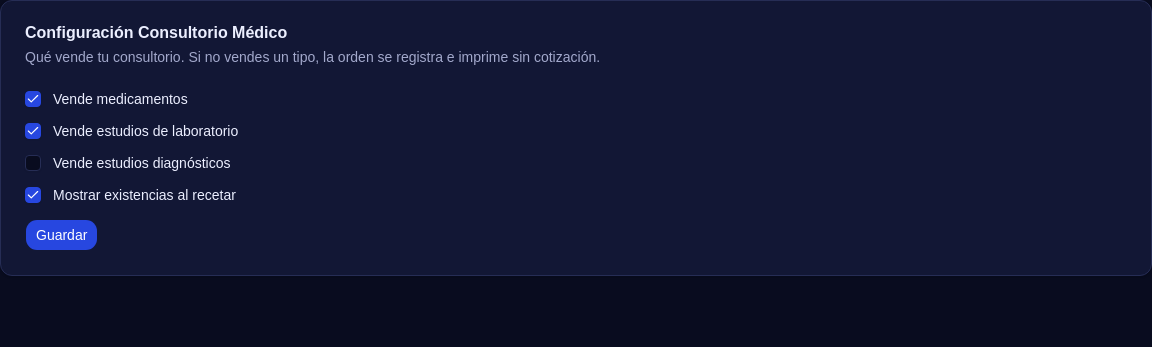
it: MedicalClinicSettings › con ambos pinta las tres casillas con lo del API y guarda SOLO lo cambiado
Expected: the text "Configuración Consultorio Médico" is shown, [25,24,287,41]
Expected: the checkbox named "Vende medicamentos" is checked, [25,91,41,107]
Click the checkbox named "Vende estudios de laboratorio". click: (33, 131)
box: [25,123,41,139]
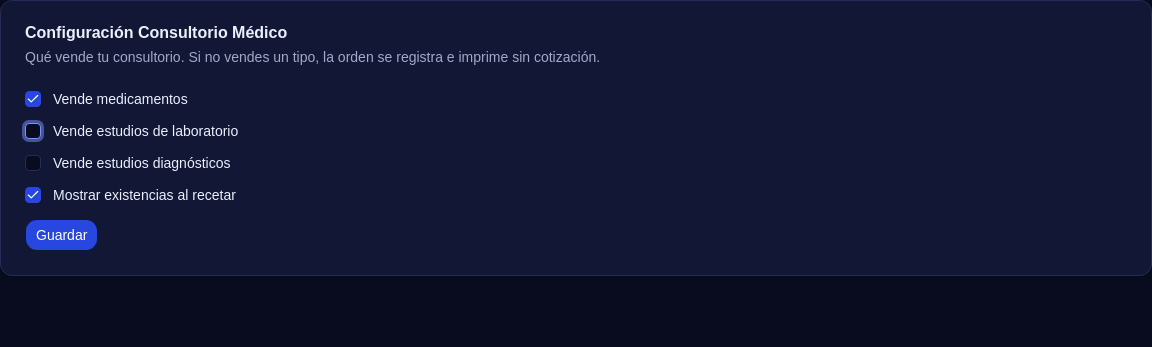
Click the button "Guardar". click: (62, 235)
box: [25,219,98,251]
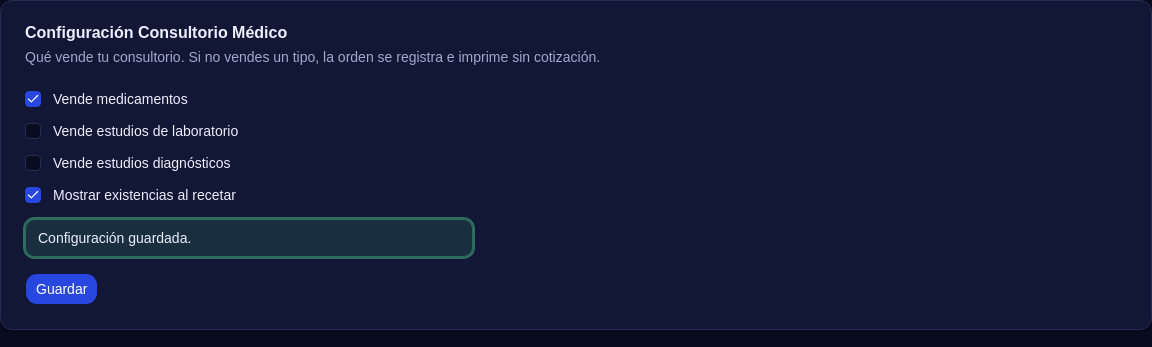
Result: the message reads "Configuración guardada." at [38,230,191,246]
